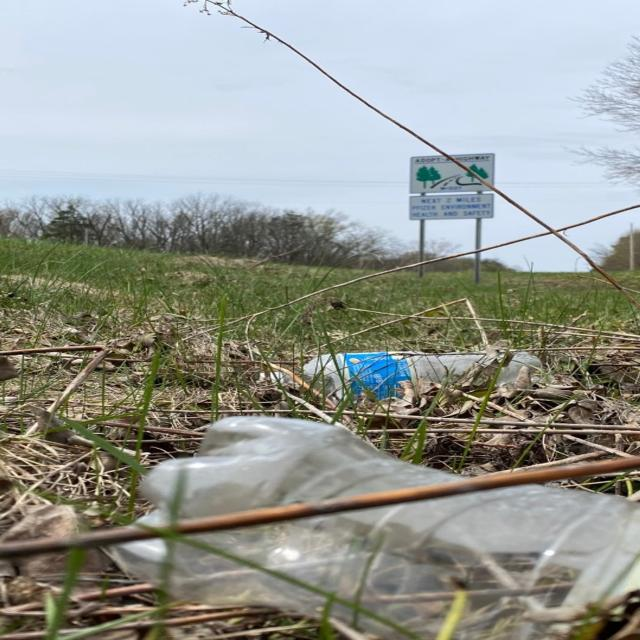Plastic: (223, 337, 578, 412)
